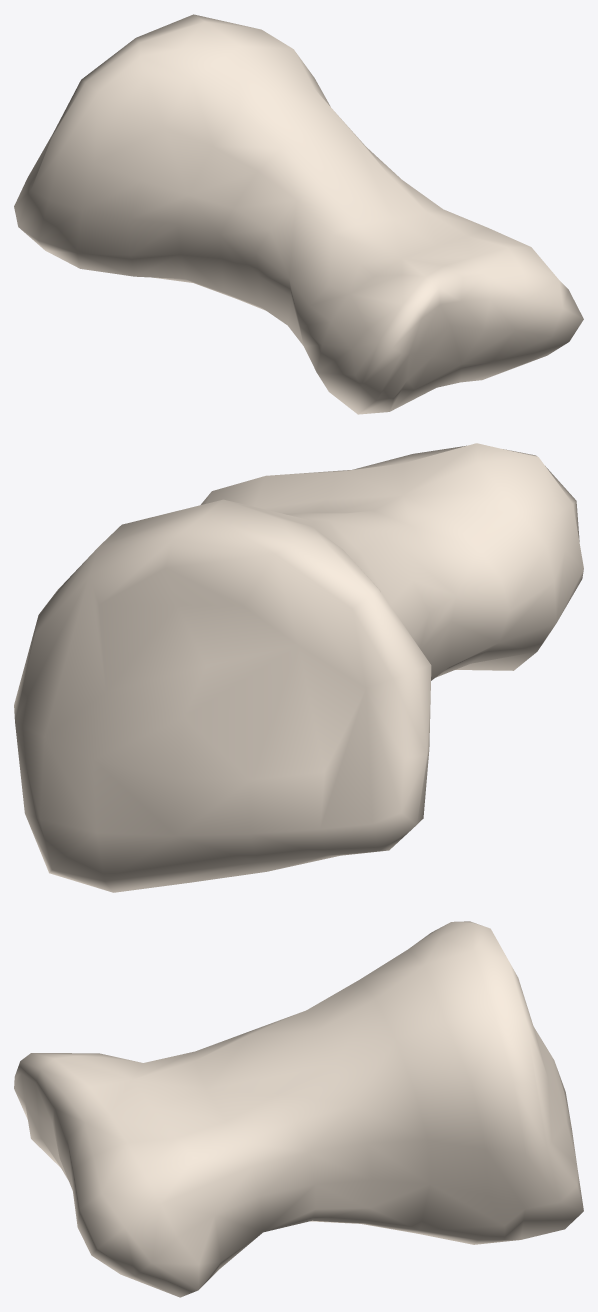
Rendered from left_toe_2_middle.glb.
3 views of the same model, one above another, from view 1: azimuth 30°, elevation 25°; view 2: azimuth 150°, elevation 25°; view 3: azimuth 270°, elevation 25° (orthographic). The views are drawn at different scales.
Visible parts, largest first — view 1: Middle phalanx of second finger of foot.r; view 2: Middle phalanx of second finger of foot.r; view 3: Middle phalanx of second finger of foot.r.
Boxes of the visible parts, <box> form: Middle phalanx of second finger of foot.r: <box>14,14,583,414</box>; Middle phalanx of second finger of foot.r: <box>14,443,583,892</box>; Middle phalanx of second finger of foot.r: <box>14,921,583,1297</box>.
Bounding box in the file's own units: 0.0123 × 0.00881 × 0.0168.
